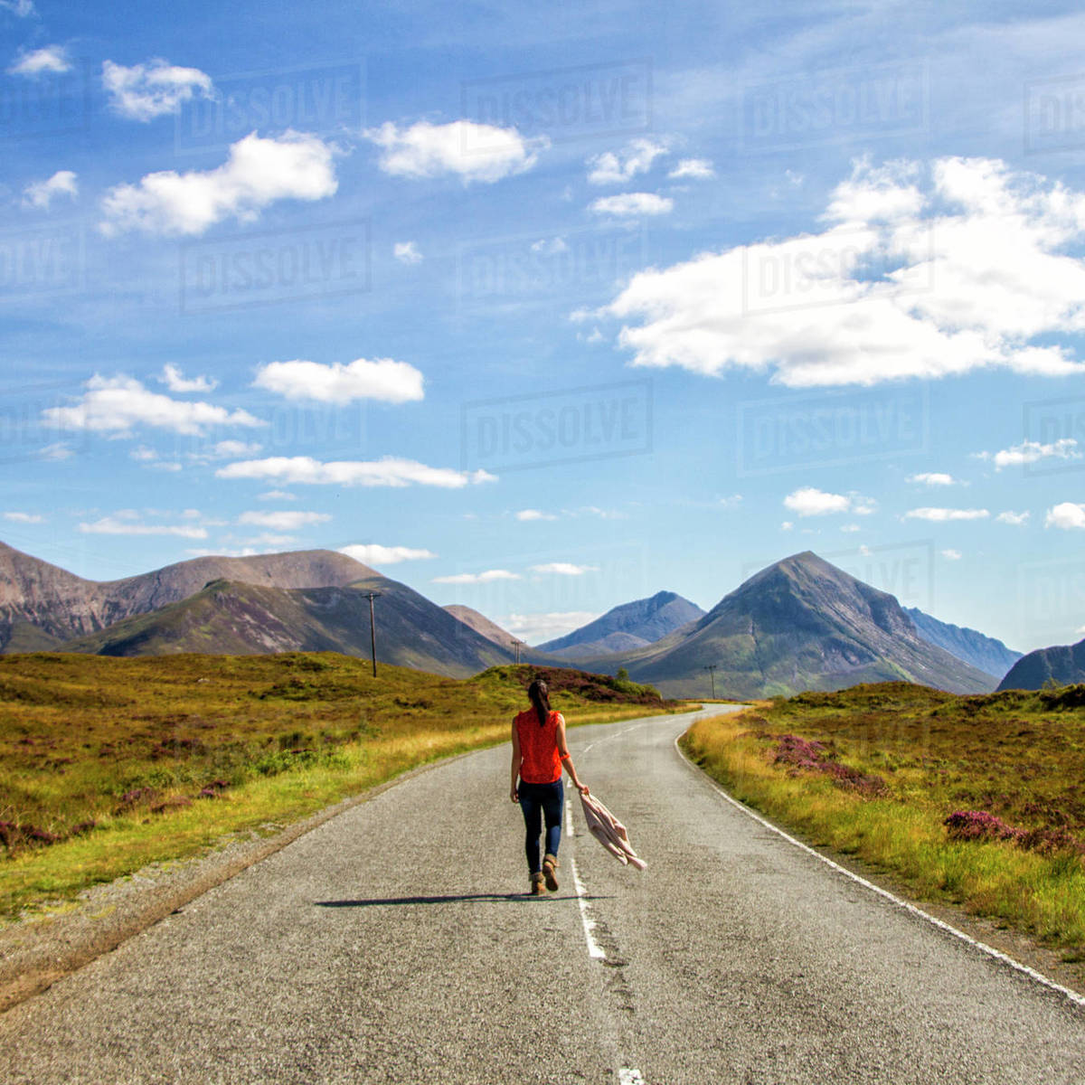Person: (495, 668, 637, 904)
